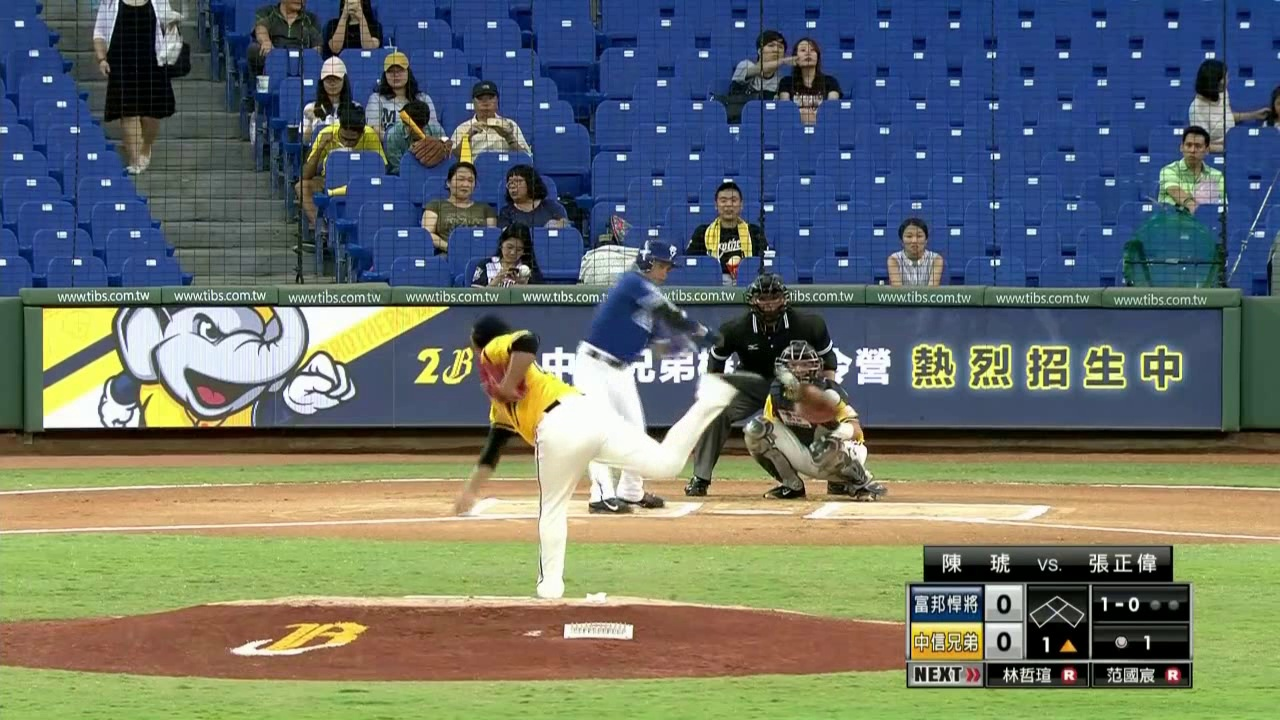ball: (783, 370, 792, 384)
base: (1027, 588, 1088, 632)
bat: (708, 334, 725, 343)
out: (1146, 594, 1185, 614)
score1: (987, 591, 1018, 621)
score2: (990, 624, 1017, 661)
session: (1030, 634, 1085, 659)
strikeball: (1093, 593, 1143, 616)
total: (1103, 625, 1163, 658)
